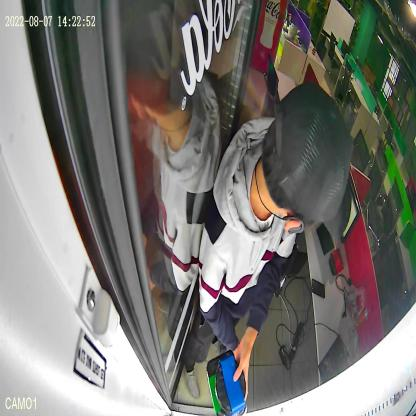blue: (215, 354, 247, 414)
green: (206, 349, 247, 416)
